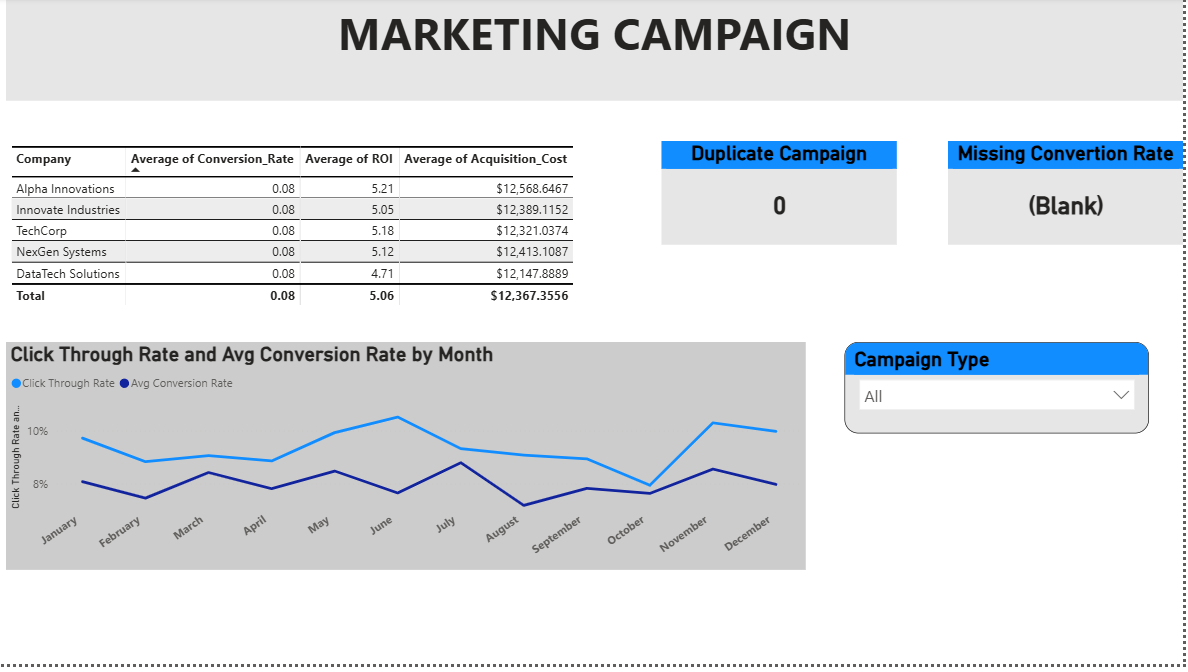

What the dashboard file says about the page in this screenshot:
{"tool":"powerbi","page":{"name":"Campaigns","canvas":[1280,720],"ordinal":1},"visuals":[{"type":"tableEx","fields":{"Values":["Marketing Campaign.Company","Avg(Marketing Campaign.Conversion_Rate)","Avg(Marketing Campaign.ROI)","Avg(Marketing Campaign.Acquisition_Cost)"]},"box":[9.7,155.4,629.9,189.4],"z":0},{"type":"card","title":"Duplicate Campaign","fields":{"Values":["Marketing Campaign.Duplicate Campaigns"]},"box":[717.3,155.4,254.2,111.7],"z":1000},{"type":"lineChart","fields":{"Y":["Marketing Campaign.Click Through Rate","Marketing Campaign.Avg Conversion Rate"],"Category":["Date.Date.Variation.Date Hierarchy.Year","Date.Date.Variation.Date Hierarchy.Quarter","Date.Date.Variation.Date Hierarchy.Month"]},"box":[9.7,372.4,863,246.1],"z":2000},{"type":"card","title":"Missing Convertion Rate","fields":{"Values":["Marketing Campaign.Missing Conversion"]},"box":[1026.6,155.4,254.2,111.7],"z":3000},{"type":"slicer","title":"Campaign Type","fields":{"Values":["Campaign Type.Campaign_Type"]},"box":[914.9,372.4,328.7,98.8],"z":4000},{"type":"textbox","box":[9.7,0,1271.1,111.7],"z":4001}]}

Visuals, with their boxes in screenshot pixels (x1, y1, x2, y2), scaled from the page's 1280x720 canvas onto the 1188x672 screenshot:
tableEx - Marketing Campaign.Company x Avg(Marketing Campaign.Conversion_Rate): box=[9, 145, 594, 322]
"Duplicate Campaign" card: box=[666, 145, 902, 249]
lineChart - Marketing Campaign.Click Through Rate x Marketing Campaign.Avg Conversion Rate: box=[9, 348, 810, 577]
"Missing Convertion Rate" card: box=[953, 145, 1187, 249]
"Campaign Type" slicer: box=[849, 348, 1154, 440]
textbox: box=[9, 0, 1187, 104]
